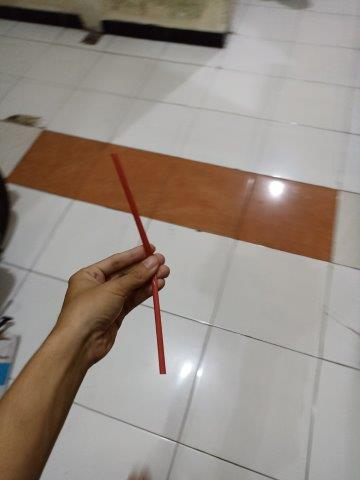sedotan: (110, 152, 164, 373)
